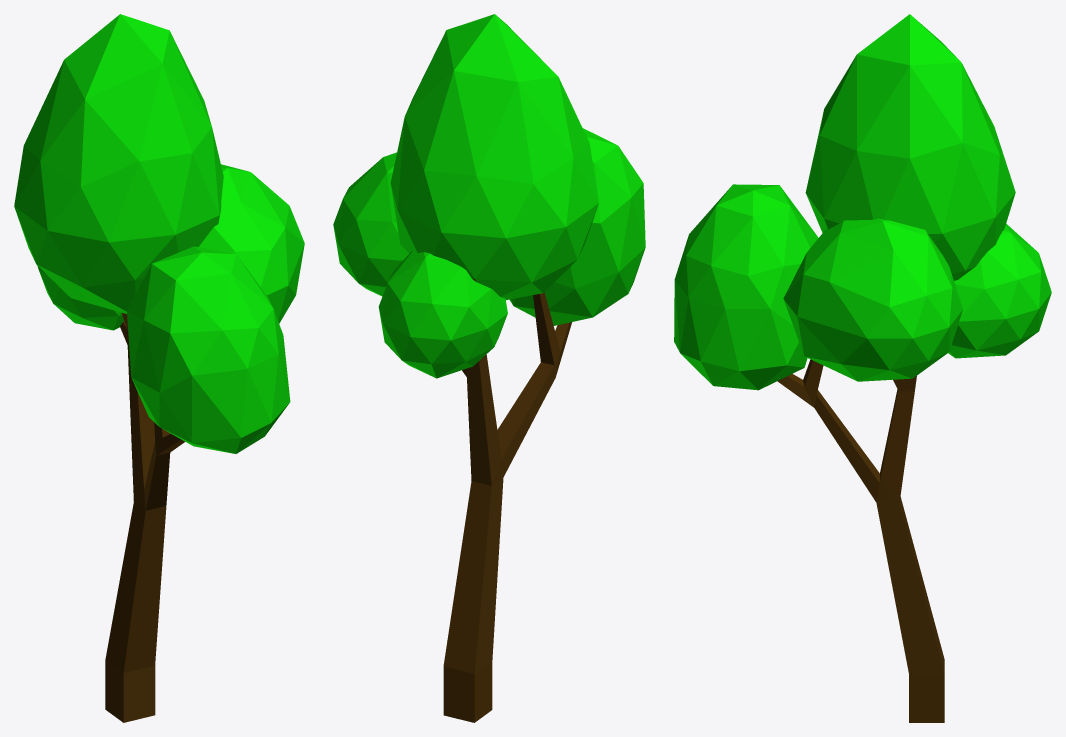
The model's file is Tree1.fbx.
3 views of the same model, side by side, from view 1: azimuth 30°, elevation 25°; view 2: azimuth 150°, elevation 25°; view 3: azimuth 270°, elevation 25° (orthographic). The views are drawn at different scales.
Visible parts, largest first — view 1: Leaf1, Branch, Leaf3, Leaf2; view 2: Leaf1, Branch, Leaf2, Leaf3; view 3: Leaf1, Leaf3, Branch, Leaf2.
Part boxes in pixels (left/top/right/bottom): Leaf1: left=14, top=14, right=290, bottom=453; Branch: left=105, top=313, right=184, bottom=722; Leaf3: left=199, top=164, right=304, bottom=323; Leaf2: left=37, top=265, right=124, bottom=330; Leaf1: left=390, top=14, right=645, bottom=325; Branch: left=443, top=278, right=571, bottom=722; Leaf2: left=378, top=251, right=507, bottom=378; Leaf3: left=333, top=152, right=408, bottom=296; Leaf1: left=674, top=14, right=1015, bottom=390; Leaf3: left=783, top=218, right=962, bottom=381; Branch: left=777, top=359, right=944, bottom=722; Leaf2: left=948, top=223, right=1051, bottom=358.
Bounding box in the file's own units: 390 × 1046 × 517.
